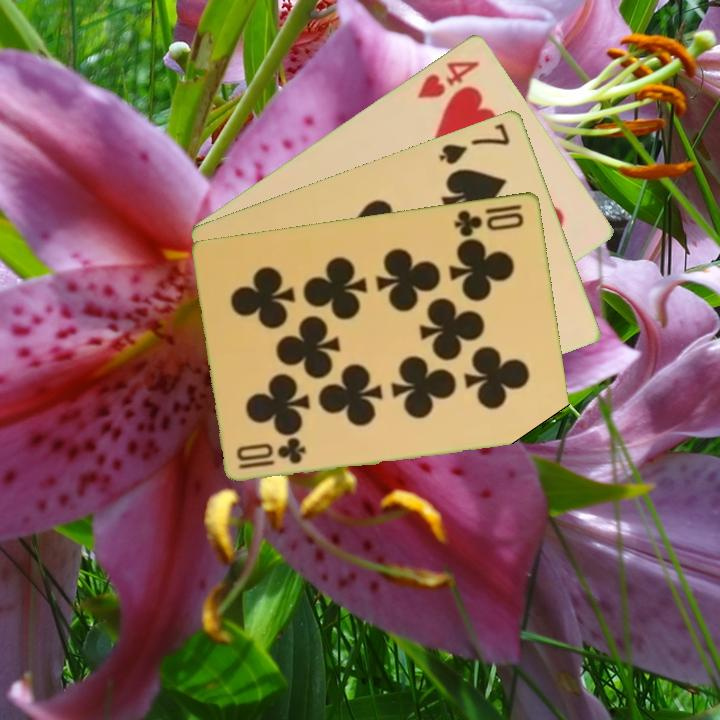10c: (451, 200, 527, 239), (235, 436, 309, 471)
4h: (413, 56, 483, 101)
7s: (435, 119, 513, 167)
